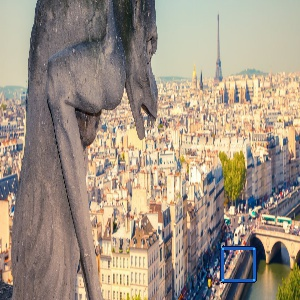square: (219, 245, 257, 283)
